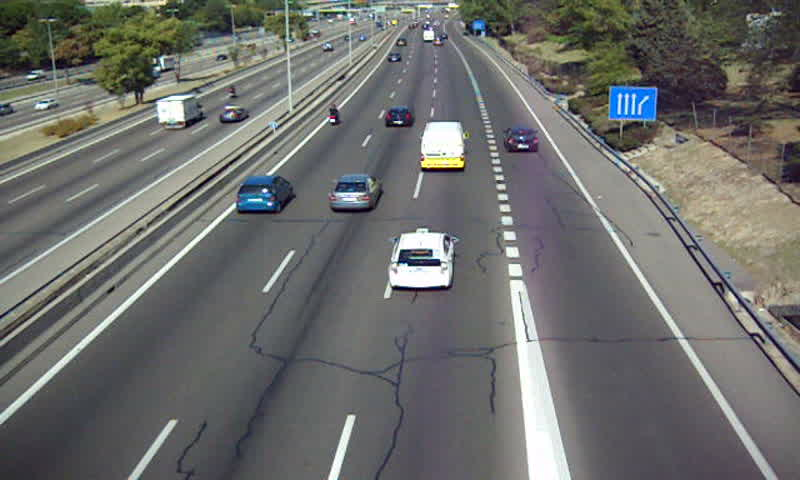car: (390, 233, 454, 289), (328, 172, 381, 213), (236, 177, 292, 212), (502, 126, 540, 153), (383, 108, 414, 129), (384, 53, 404, 64)
motorcycle: (327, 104, 340, 130)
van: (421, 122, 465, 170)
